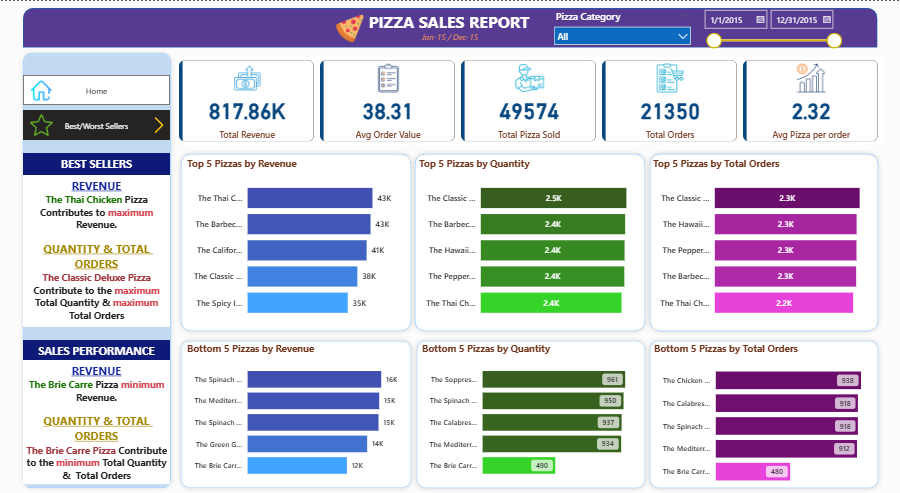

This screenshot's page, from the dashboard's own definition file:
{"tool":"powerbi","page":{"name":"Best/Worst Sellers","canvas":[1500,820],"ordinal":1},"visuals":[{"type":"shape","box":[30,78.3,263.3,741.7],"z":0},{"type":"shape","box":[38,12,1424,66],"z":1000},{"type":"cardVisual","fields":{"Data":["pizza_sales.Total Revenue","pizza_sales.Avg Order Value","pizza_sales.Total Pizza Sold","pizza_sales.Total Orders","pizza_sales.Avg Pizza per order"]},"box":[294,94,1178,146],"z":2000},{"type":"textbox","box":[680,46,140,40],"z":3000},{"type":"textbox","box":[584,12,330,56],"z":4000},{"type":"image","box":[550,16,66,58],"z":5000},{"type":"shape","box":[293.3,246.7,400,311.7],"z":6000},{"type":"textbox","box":[38.3,253.3,245,36.7],"z":7000},{"type":"textbox","box":[38.3,290,245,253.3],"z":8000},{"type":"textbox","box":[38.3,565,245,36.7],"z":9000},{"type":"textbox","box":[38.3,598.3,245,206.7],"z":10000},{"type":"slicer","fields":{"Values":["pizza_sales.pizza_category"]},"box":[913.3,10,248.3,70],"z":11000},{"type":"slicer","fields":{"Values":["pizza_sales.order_date"]},"box":[1161.7,5,250,78.3],"z":12000},{"type":"shape","box":[683.3,246.7,400,311.7],"z":13000},{"type":"shape","box":[1075,246.7,396.7,311.7],"z":14000},{"type":"shape","box":[293.3,558.3,400,261],"z":15000},{"type":"shape","box":[686.7,558.3,396.7,261.7],"z":16000},{"type":"shape","box":[1075,558.3,396.7,261.7],"z":17000},{"type":"barChart","title":"Top 5 Pizzas by Revenue","fields":{"Category":["pizza_sales.pizza_name"],"Y":["pizza_sales.Total Revenue"]},"box":[306.7,260,373.3,283.3],"z":18000},{"type":"barChart","title":"Bottom 5 Pizzas by Revenue","fields":{"Category":["pizza_sales.pizza_name"],"Y":["pizza_sales.Total Revenue"]},"box":[306.7,568.3,373.3,240],"z":19000},{"type":"barChart","title":"Top 5 Pizzas by Quantity","fields":{"Category":["pizza_sales.pizza_name"],"Y":["pizza_sales.Total Pizza Sold"]},"box":[693.3,260,381.7,283.3],"z":20000},{"type":"barChart","title":"Bottom 5 Pizzas by Quantity","fields":{"Category":["pizza_sales.pizza_name"],"Y":["pizza_sales.Total Pizza Sold"]},"box":[698.3,568.3,373.3,240],"z":21000},{"type":"barChart","title":"Top 5 Pizzas by Total Orders","fields":{"Category":["pizza_sales.pizza_name"],"Y":["pizza_sales.Total Orders"]},"box":[1083.3,260,381.7,283.3],"z":22000},{"type":"barChart","title":"Bottom 5 Pizzas by Total Orders","fields":{"Category":["pizza_sales.pizza_name"],"Y":["pizza_sales.Total Orders"]},"box":[1084.6,568.9,381.9,252],"z":23000},{"type":"pageNavigator","box":[38.3,123.3,245,50],"z":24000},{"type":"pageNavigator","box":[38.3,181.7,245,50],"z":25000},{"type":"image","box":[246.7,183.3,36.7,46.7],"z":26000},{"type":"image","box":[38.3,126.7,61.7,45],"z":27000},{"type":"image","box":[45,181.7,48.3,50],"z":28000}]}

Visuals, with their boxes in screenshot pixels (x1, y1, x2, y2), scaled from the page's 1500x820 canvas onto the 900x493 screenshot:
shape: x1=18, y1=47, x2=176, y2=492
shape: x1=23, y1=7, x2=877, y2=47
cardVisual - pizza_sales.Total Revenue x pizza_sales.Avg Order Value: x1=176, y1=57, x2=883, y2=144
textbox: x1=408, y1=28, x2=492, y2=52
textbox: x1=350, y1=7, x2=548, y2=41
image: x1=330, y1=10, x2=370, y2=44
shape: x1=176, y1=148, x2=416, y2=336
textbox: x1=23, y1=152, x2=170, y2=174
textbox: x1=23, y1=174, x2=170, y2=327
textbox: x1=23, y1=340, x2=170, y2=362
textbox: x1=23, y1=360, x2=170, y2=484
slicer - pizza_sales.pizza_category: x1=548, y1=6, x2=697, y2=48
slicer - pizza_sales.order_date: x1=697, y1=3, x2=847, y2=50
shape: x1=410, y1=148, x2=650, y2=336
shape: x1=645, y1=148, x2=883, y2=336
shape: x1=176, y1=336, x2=416, y2=492
shape: x1=412, y1=336, x2=650, y2=492
shape: x1=645, y1=336, x2=883, y2=492
"Top 5 Pizzas by Revenue" barChart: x1=184, y1=156, x2=408, y2=327
"Bottom 5 Pizzas by Revenue" barChart: x1=184, y1=342, x2=408, y2=486
"Top 5 Pizzas by Quantity" barChart: x1=416, y1=156, x2=645, y2=327
"Bottom 5 Pizzas by Quantity" barChart: x1=419, y1=342, x2=643, y2=486
"Top 5 Pizzas by Total Orders" barChart: x1=650, y1=156, x2=879, y2=327
"Bottom 5 Pizzas by Total Orders" barChart: x1=651, y1=342, x2=880, y2=492
pageNavigator: x1=23, y1=74, x2=170, y2=104
pageNavigator: x1=23, y1=109, x2=170, y2=139
image: x1=148, y1=110, x2=170, y2=138
image: x1=23, y1=76, x2=60, y2=103
image: x1=27, y1=109, x2=56, y2=139
